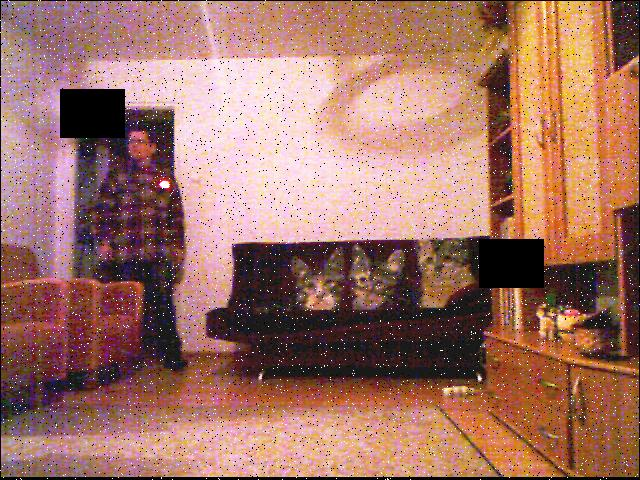walking: (96, 110, 192, 399)
